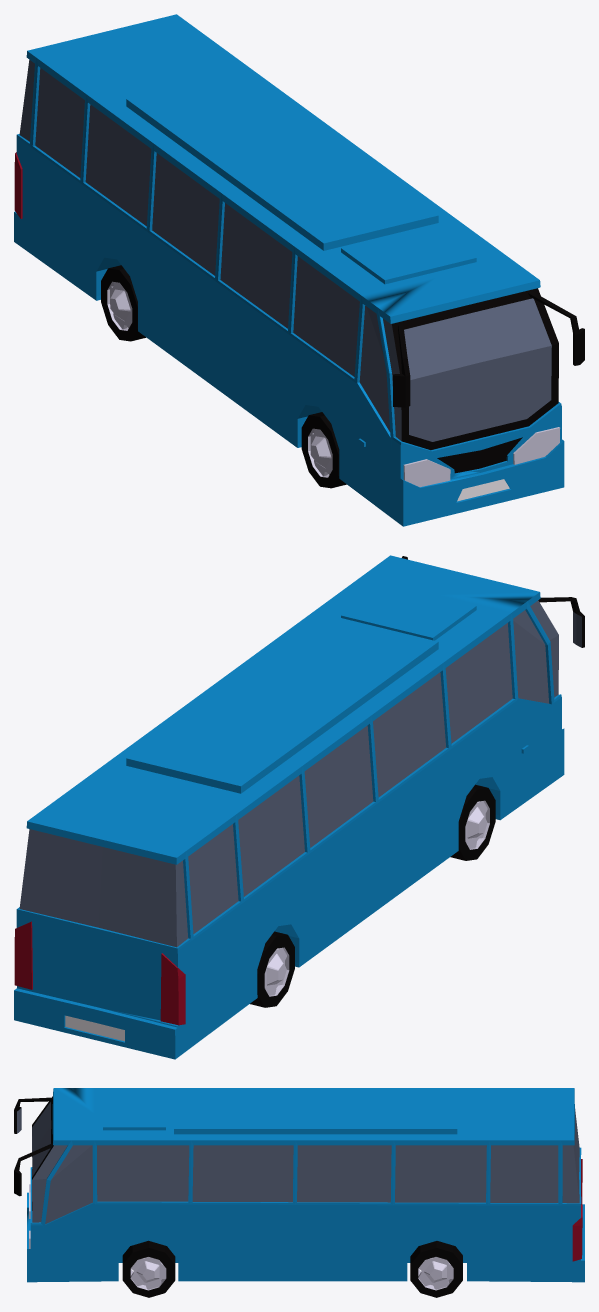
File: Bus.gltf
The picture shows the model from 3 angles, top to bottom: view 1: azimuth 30°, elevation 25°; view 2: azimuth 150°, elevation 25°; view 3: azimuth 270°, elevation 25°; orthographic projection. The views are drawn at different scales.
Visible parts, largest first — view 1: Bus, Bus wheel front right, Bus wheel rear right; view 2: Bus, Bus wheel rear right, Bus wheel front right; view 3: Bus, Bus wheel front left, Bus wheel rear left.
Boxes of the visible parts, <box> form: Bus: <box>14,14,584,526</box>; Bus wheel front right: <box>301,412,346,488</box>; Bus wheel rear right: <box>101,265,145,341</box>; Bus: <box>14,555,584,1059</box>; Bus wheel rear right: <box>250,931,294,1007</box>; Bus wheel front right: <box>450,784,495,860</box>; Bus: <box>14,1088,584,1282</box>; Bus wheel front left: <box>122,1240,175,1297</box>; Bus wheel rear left: <box>410,1241,462,1297</box>.
Bounding box in the file's own units: 381 × 427 × 1370.
